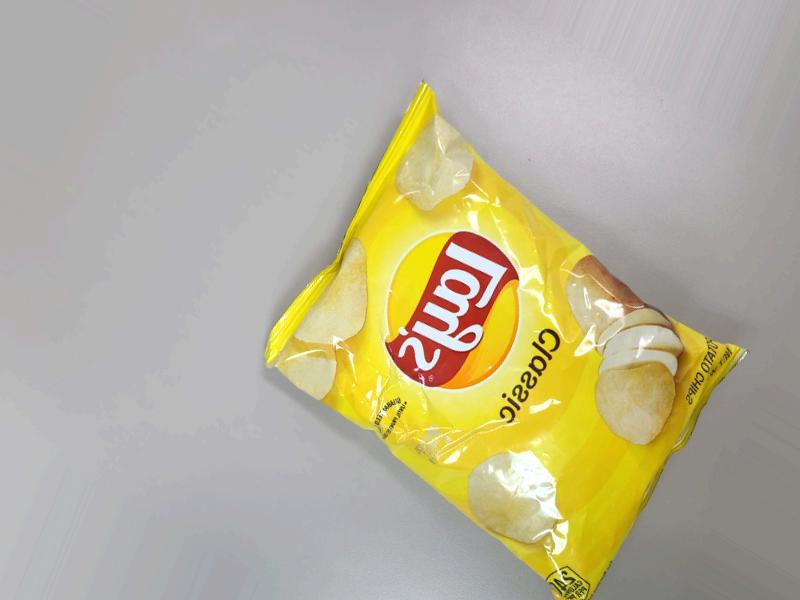lays: (357, 21, 692, 600)
